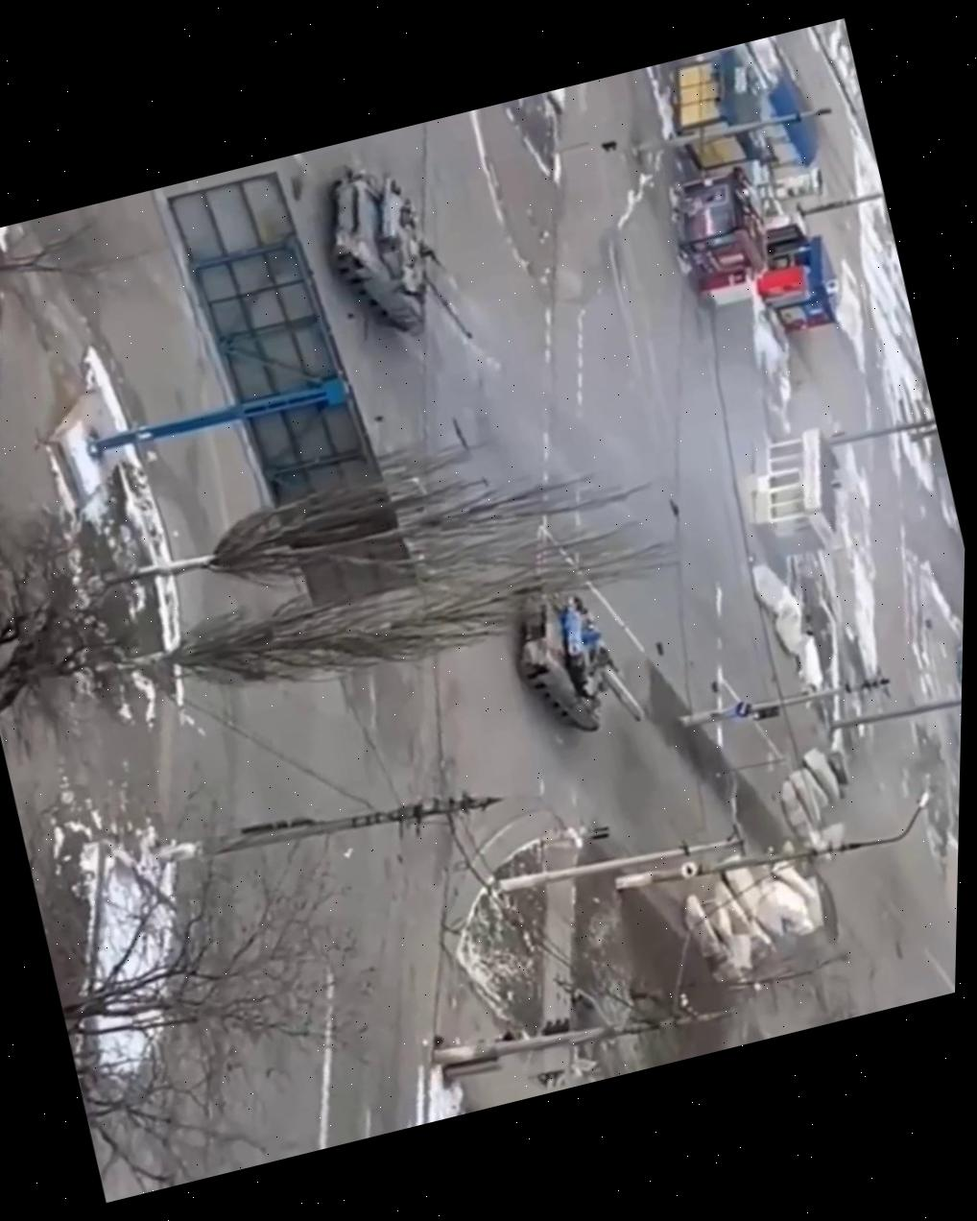tank: (303, 145, 479, 372), (495, 560, 648, 753)
